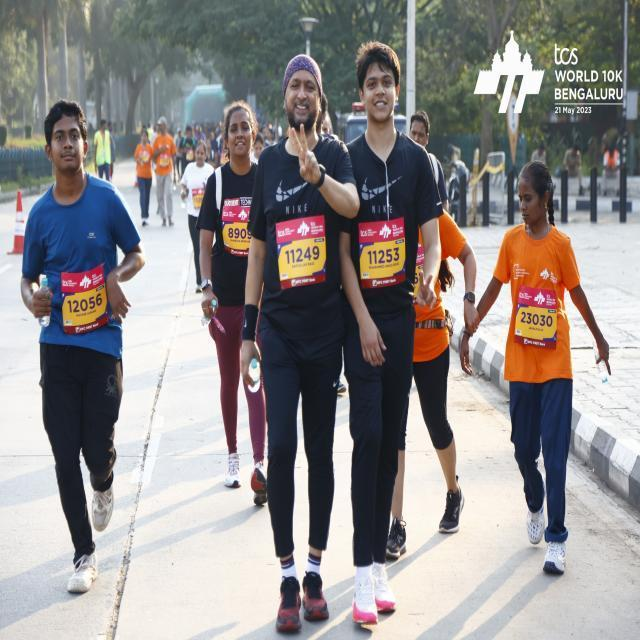dorsal: (60, 264, 114, 339), (356, 215, 408, 290), (275, 218, 327, 292), (514, 284, 558, 354)
